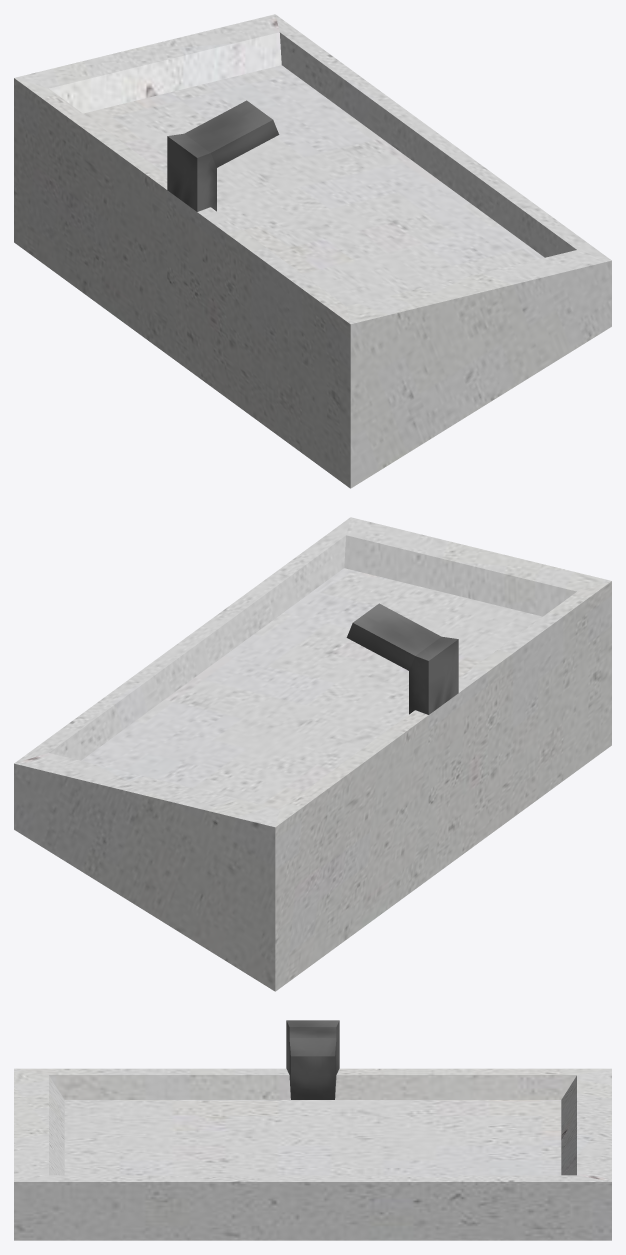
File: Restroom Sink.fbx
3 renders of one model, top to bottom at view 1: azimuth 30°, elevation 25°; view 2: azimuth 150°, elevation 25°; view 3: azimuth 270°, elevation 25°, orthographic. The views are drawn at different scales.
Visible parts, largest first — view 1: Cube; view 2: Cube; view 3: Cube.
Boxes of the visible parts, x1,y1,x2,y2 form: Cube: (14, 14, 611, 488); Cube: (14, 517, 611, 991); Cube: (14, 1020, 611, 1240).
Bounding box in the file's own units: 61.87 × 53.51 × 138.
1 material, 1 textured.
